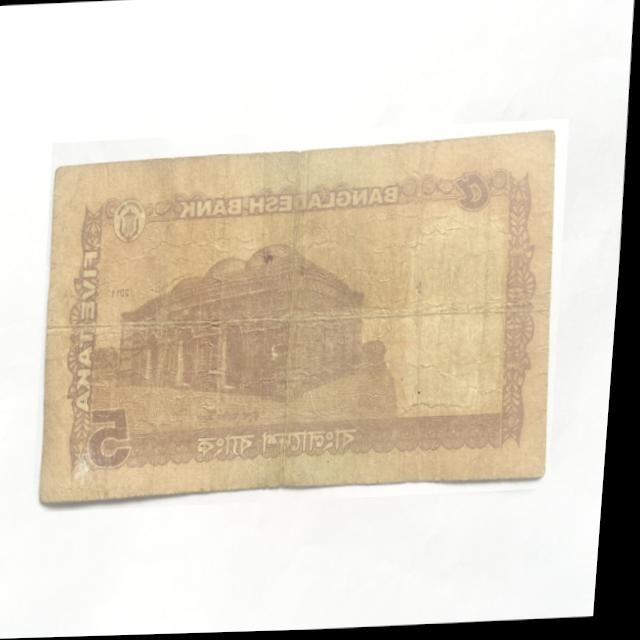Taka: (33, 122, 577, 513)
